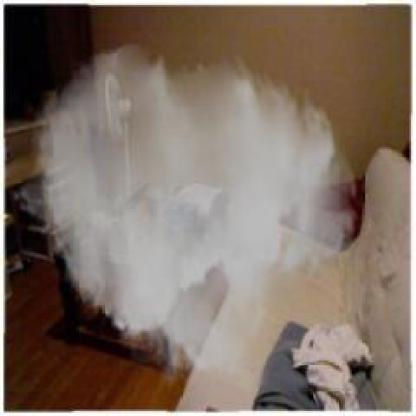Smoke: (11, 41, 361, 398)
